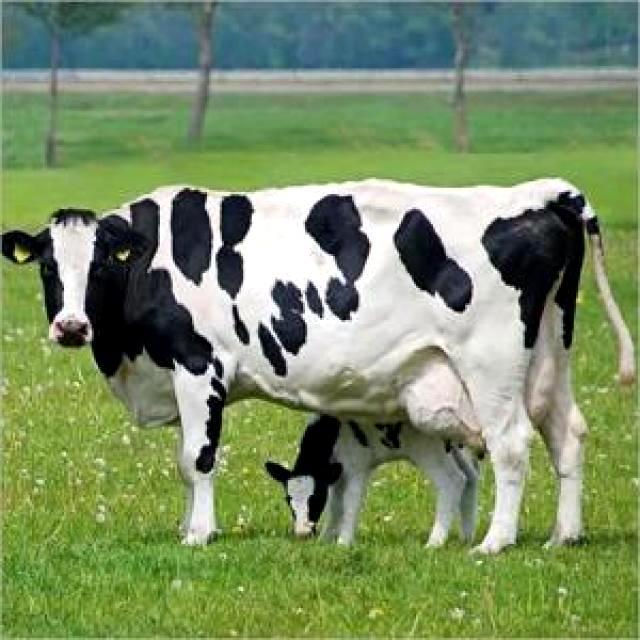COW: (1, 179, 635, 552), (265, 415, 478, 546)
